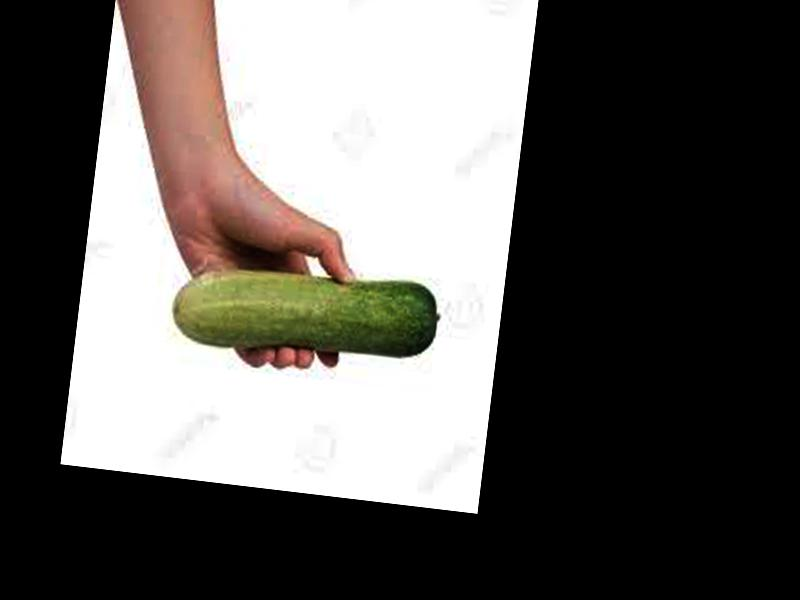Cucumber: (168, 249, 445, 369)
